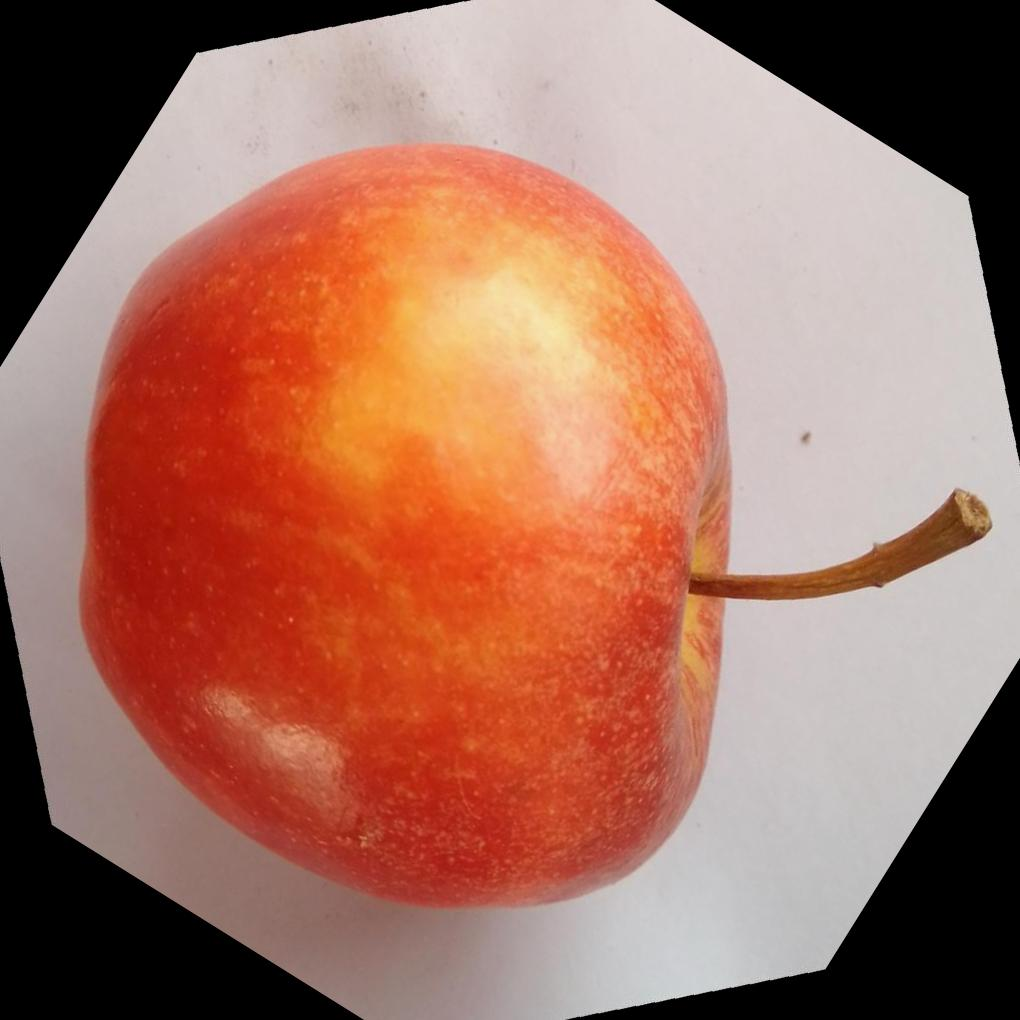FreshGuava: (76, 137, 733, 909)
